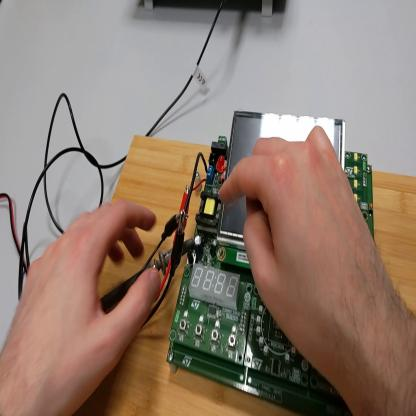hand: (219, 127, 387, 377), (1, 195, 163, 415)
low voltage board: (167, 115, 378, 414)
oscilloscope: (142, 3, 279, 15)
oscilloscope probe tip: (104, 240, 195, 313)
working area: (79, 131, 416, 415)
